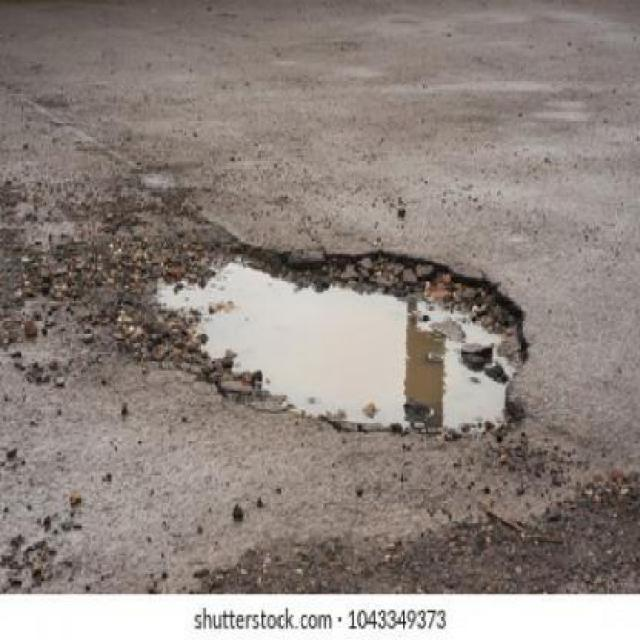Buraco: (74, 221, 536, 449)
